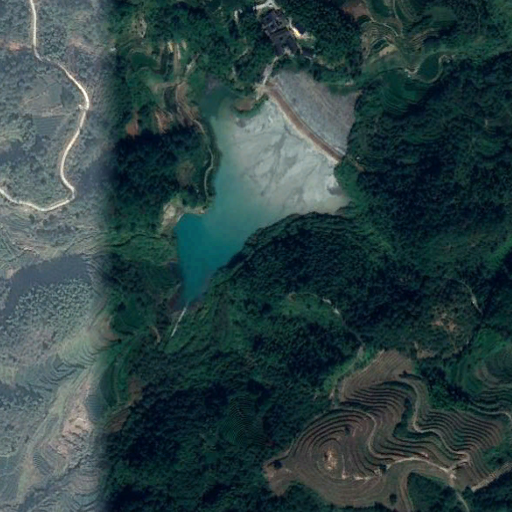tp: (173, 65, 363, 304)
